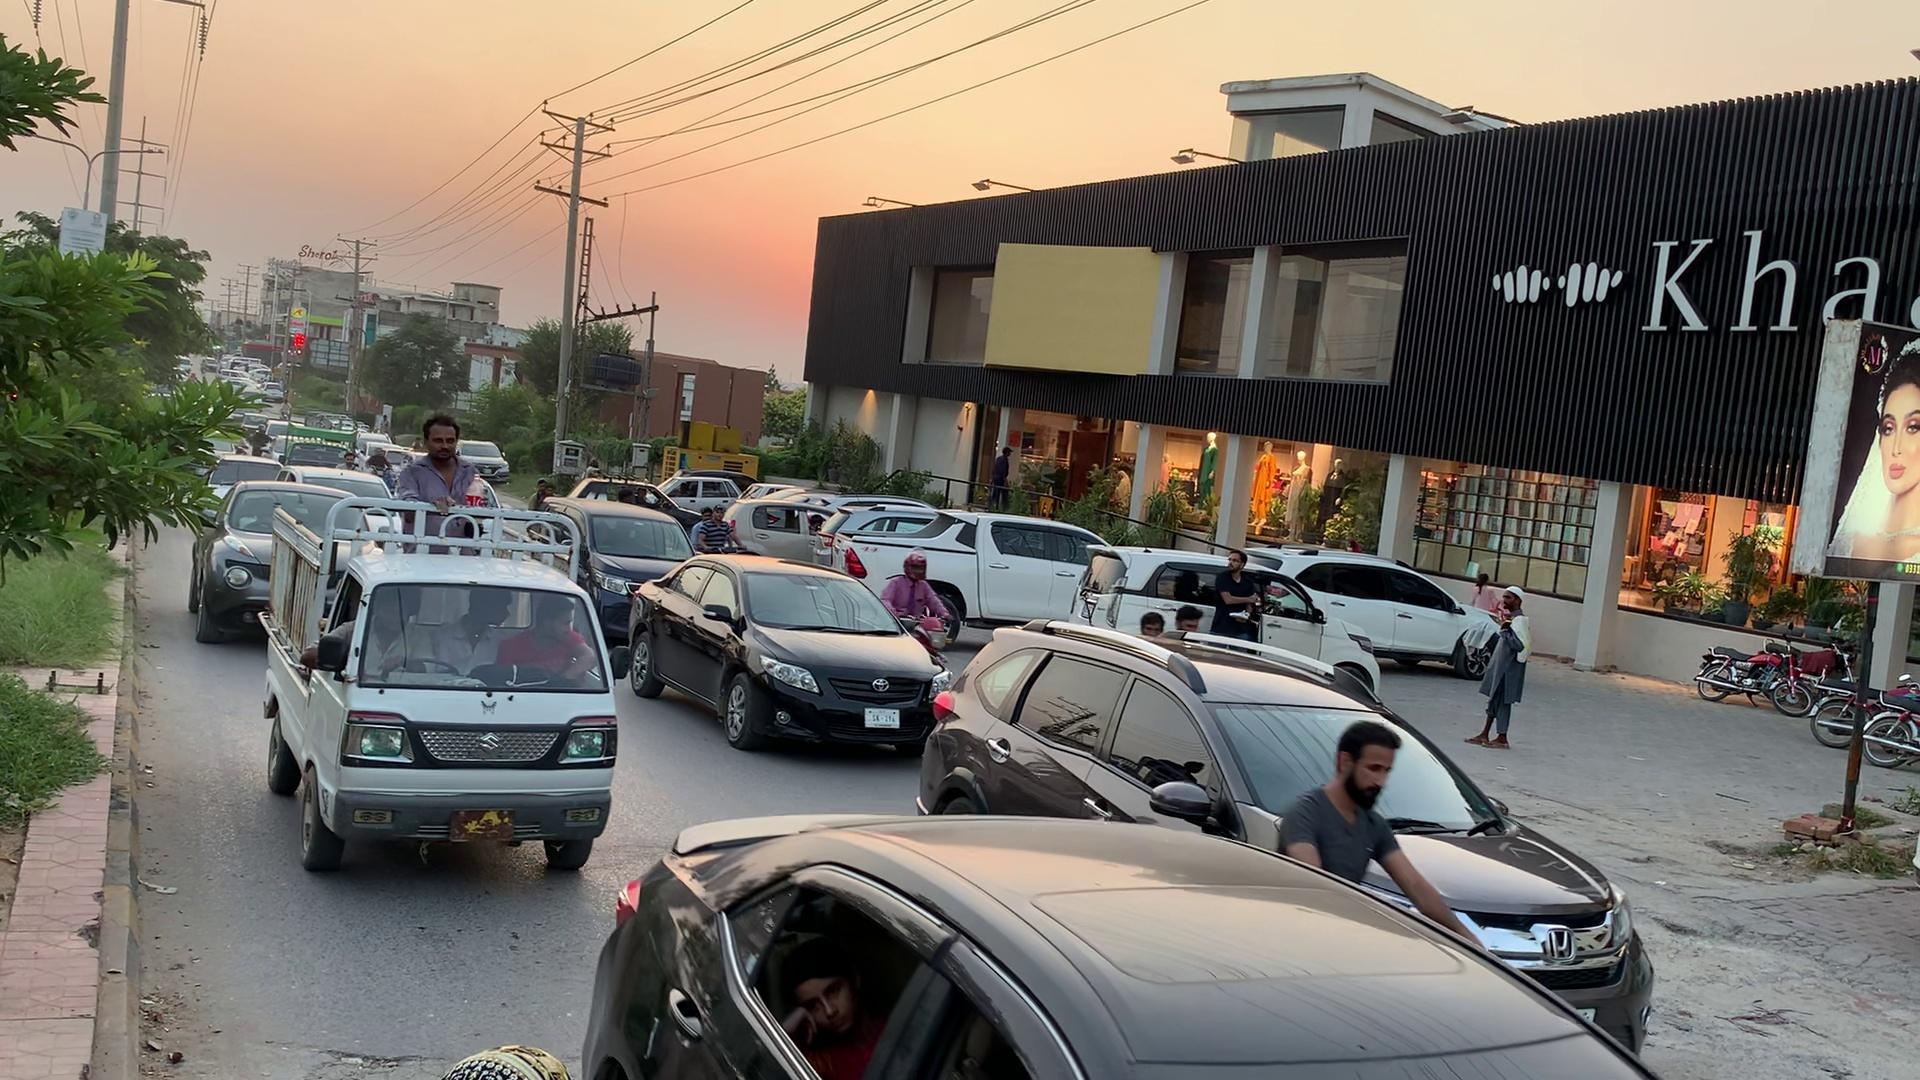windshield: (351, 580, 611, 696), (744, 567, 918, 633)
